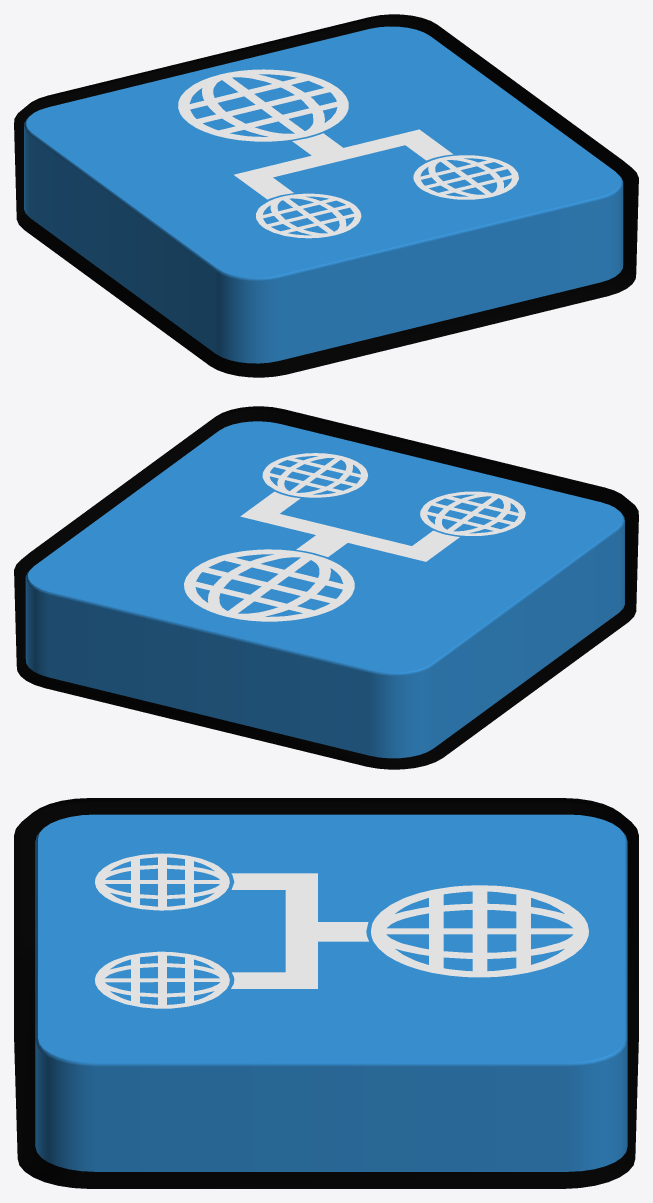
Rendered from WebCluster.obj.
3 renders of one model, top to bottom at view 1: azimuth 30°, elevation 25°; view 2: azimuth 150°, elevation 25°; view 3: azimuth 270°, elevation 25°, orthographic. The views are drawn at different scales.
Parts seen in each view (by area): view 1: WebCluster; view 2: WebCluster; view 3: WebCluster.
Boxes of the visible parts, x1,y1,x2,y2 form: WebCluster: (14, 14, 638, 377); WebCluster: (14, 406, 638, 769); WebCluster: (14, 798, 638, 1188).
Bounding box in the file's own units: 1.06 × 0.2484 × 1.06.
